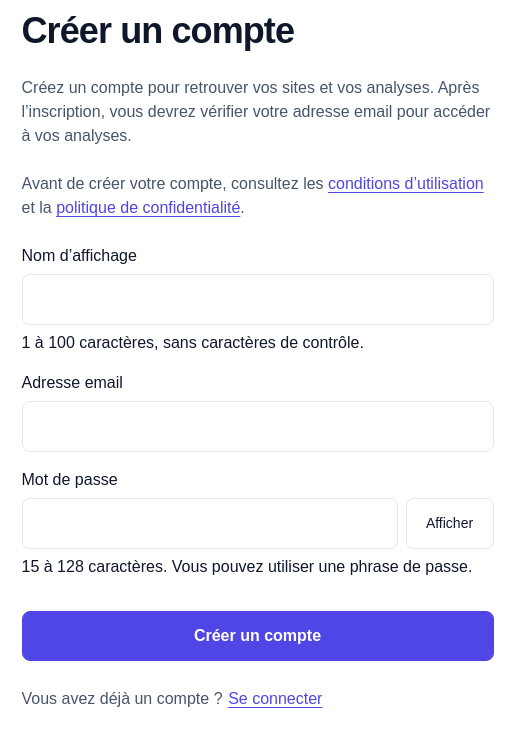
Test: registration through the browser client in fr › recovers from name_invalid without resubmitting automatically
In the field labelled "Nom d’affichage": (258, 300) [22,274,494,325], type "Synthetic user"
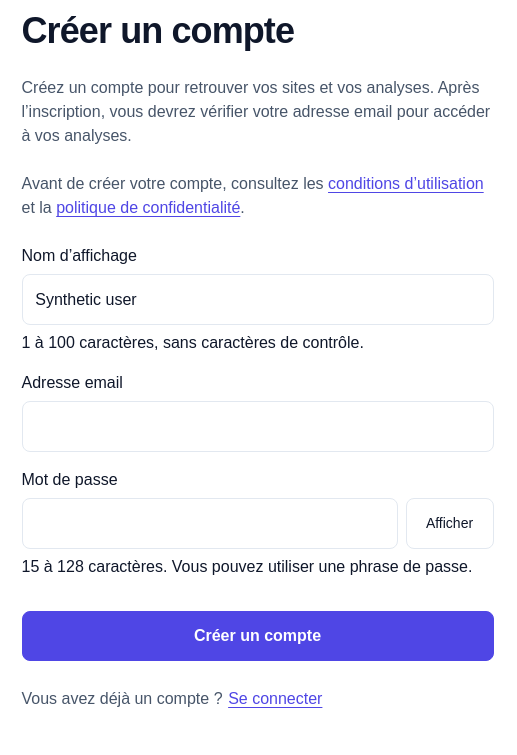
In the field labelled "Adresse email": (258, 426) [22,401,494,452], type "fixture@example.invalid"
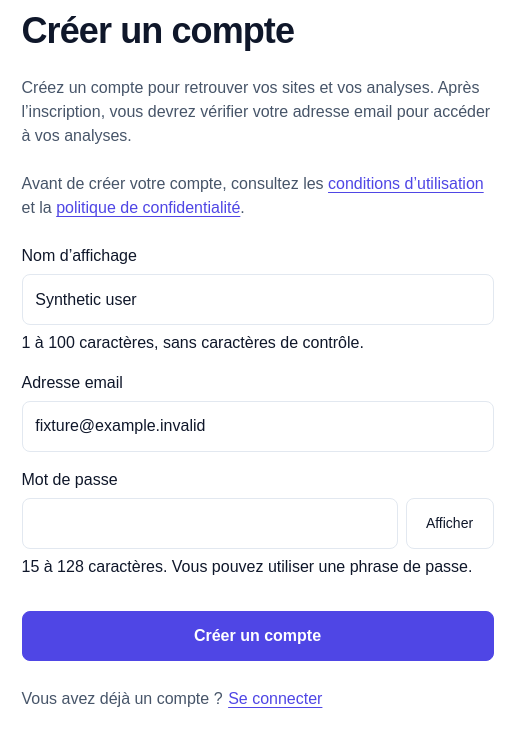
In the password field labelled "Mot de passe": (210, 524) [22,498,398,549], type "  🔐 a synthetic passphrase  "
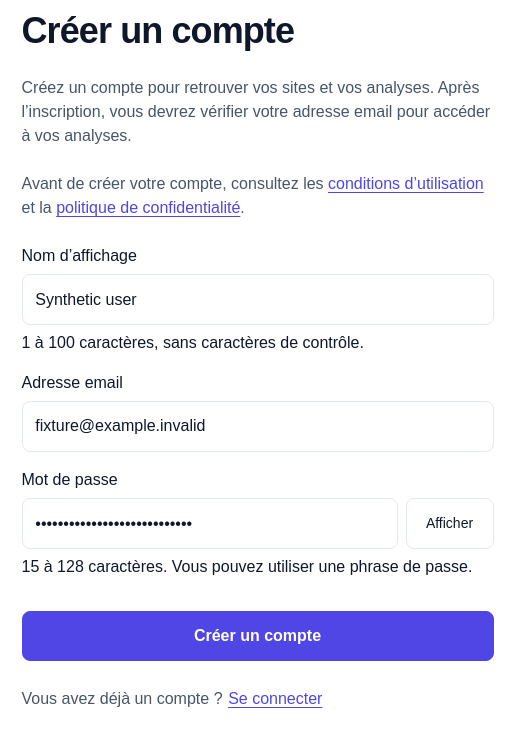
Submit the form named "Créer un compte", box [22,244,494,661]
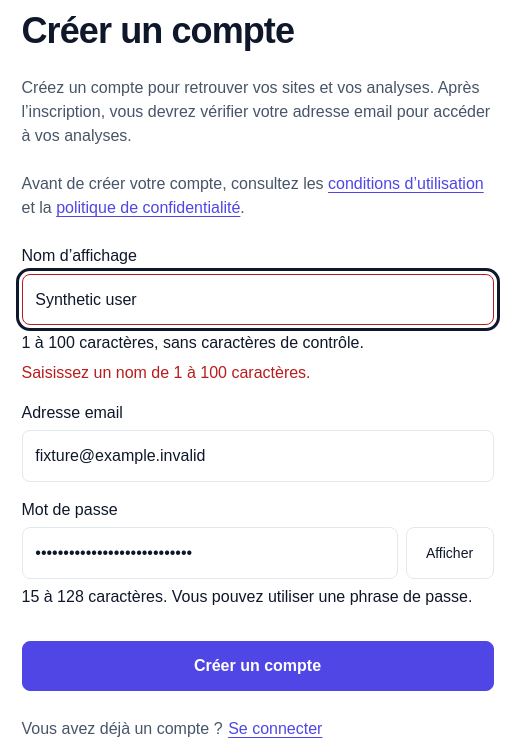
Check: the field labelled "Nom d’affichage" is enabled, box [22,274,494,325]
Check: the text "Saisissez un nom de 1 à 100 caractères." is shown, box [22,364,310,381]
Submit the form named "Créer un compte", box [22,244,494,690]
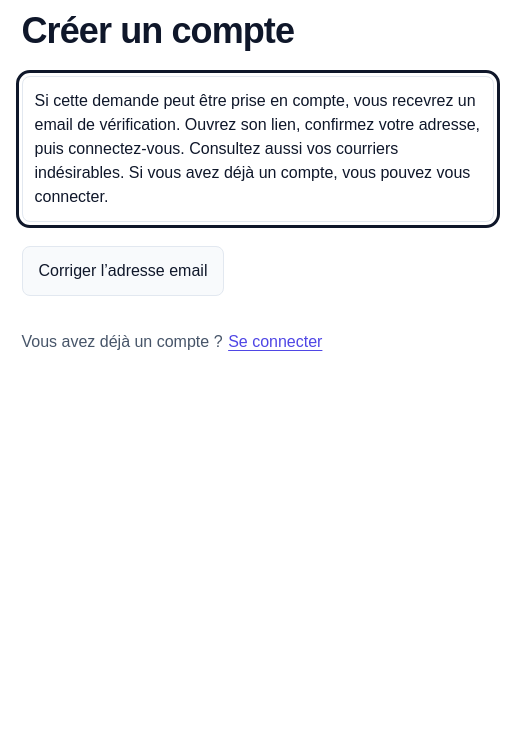
Check: the text "Si cette demande peut être prise en compte, vous recevrez un email de vérification. Ouvrez son lien, confirmez votre adr" is shown, box [34,92,480,205]
